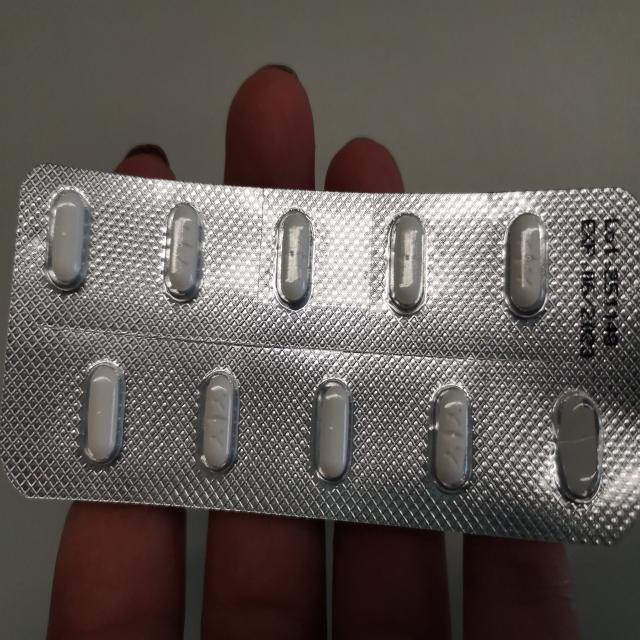Pill: (548, 383, 608, 504), (73, 352, 133, 471), (423, 378, 482, 499), (191, 361, 248, 480), (303, 372, 359, 491), (500, 210, 556, 322), (40, 182, 95, 296), (378, 206, 430, 322), (160, 195, 209, 308), (269, 204, 318, 314)
